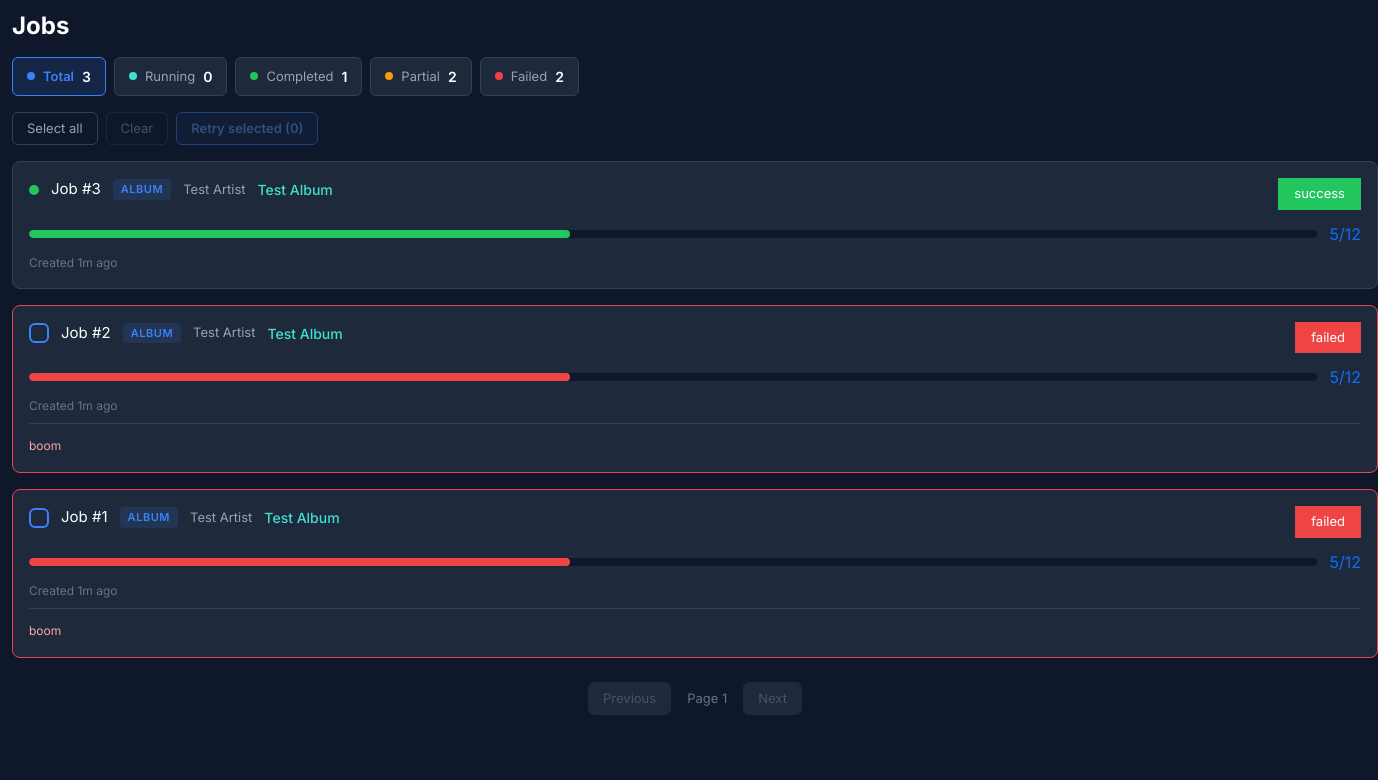
Scenario: JobsPage retry selection › select all selects every retryable job on the page
Step 1. Click the button "Select all" → (55, 129), box [12,112,98,145]
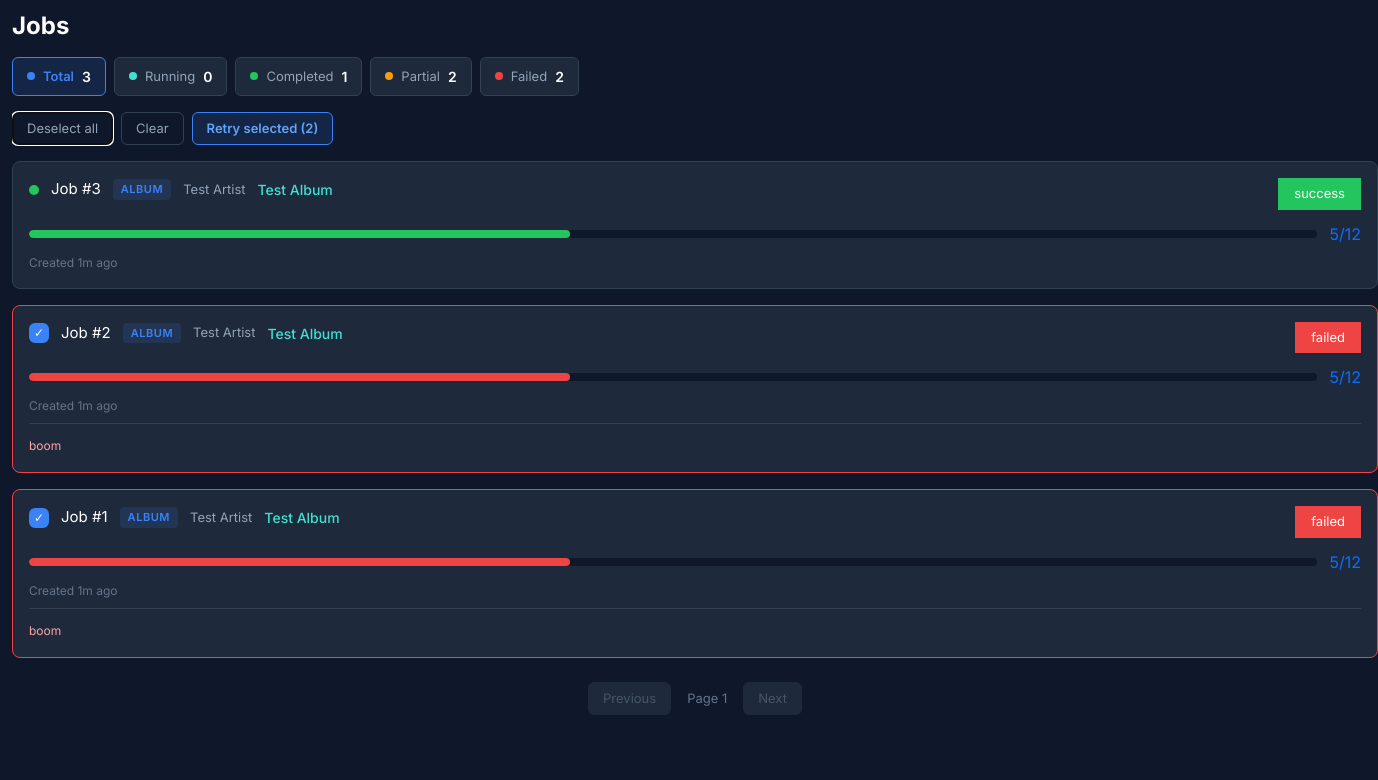
Check: the button "Retry selected (2)" is enabled, box [192,112,333,145]
